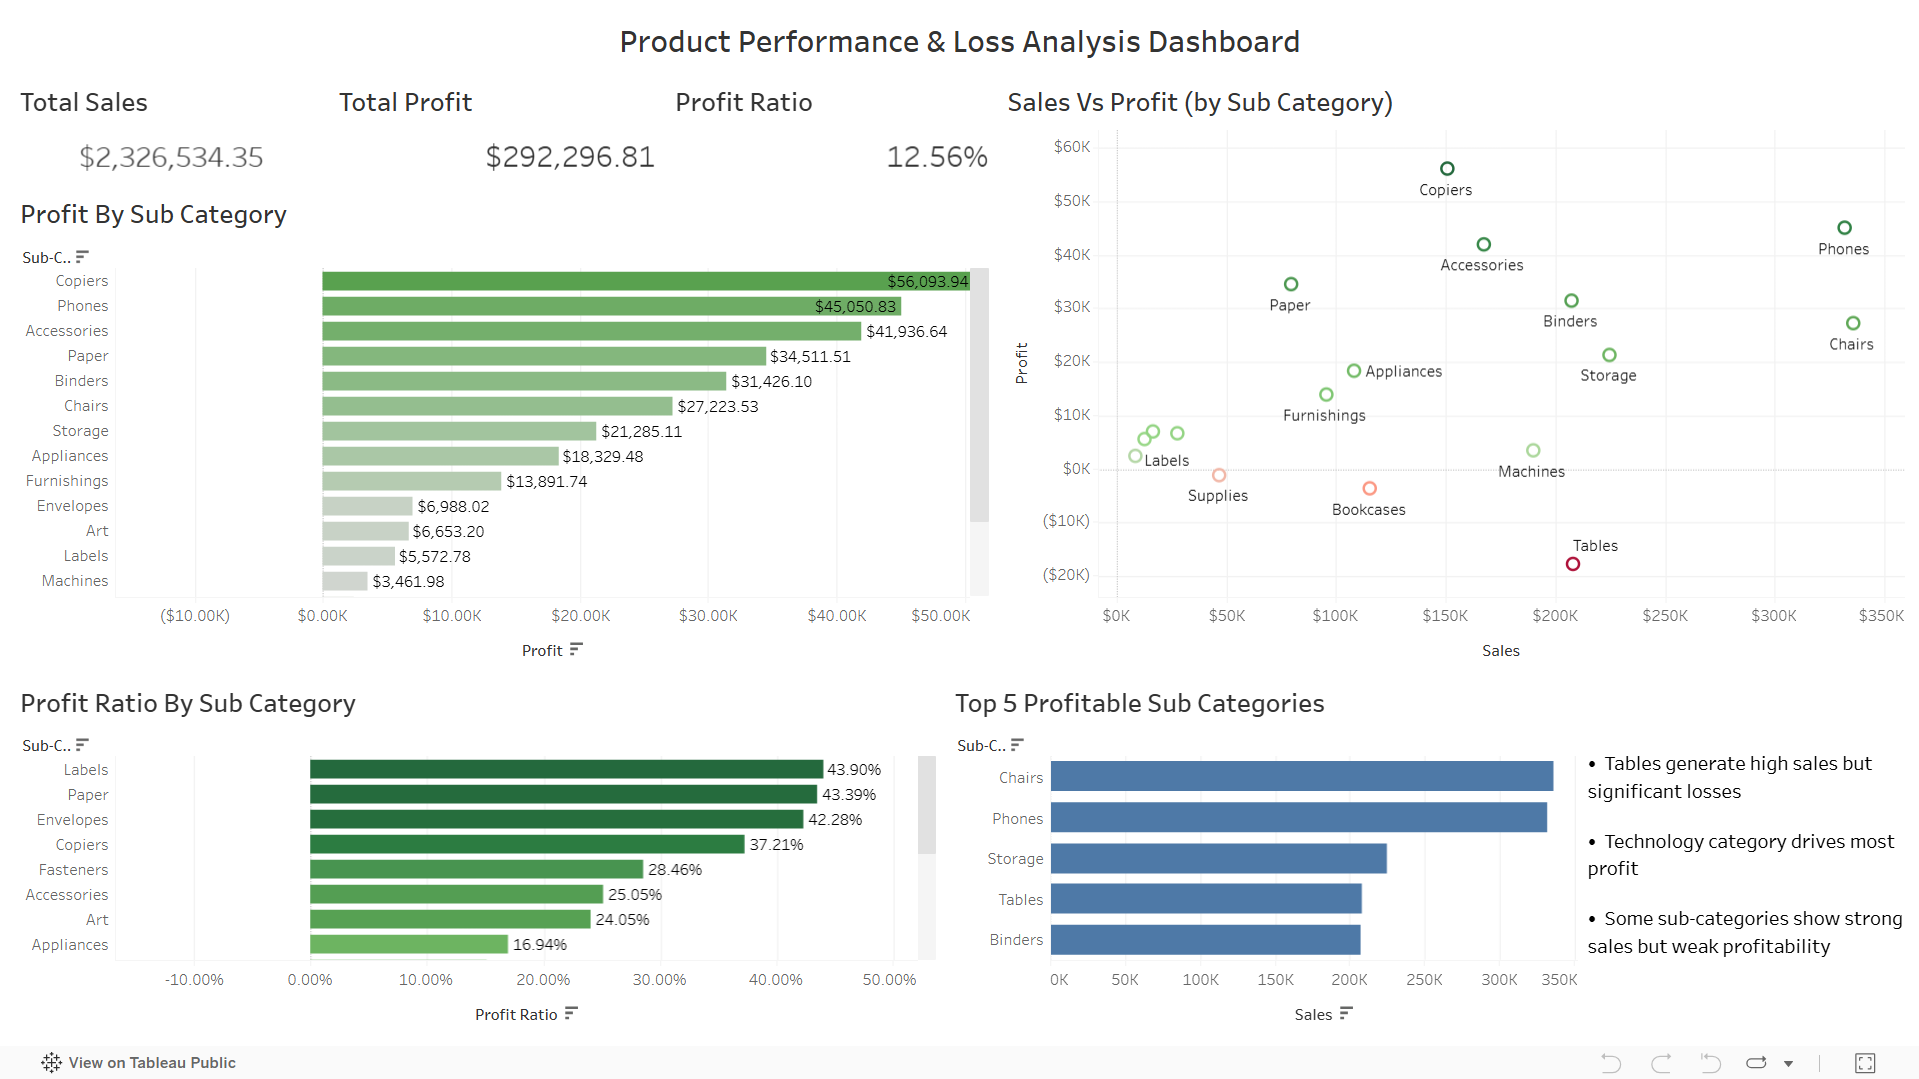

Layout of this report page (visuals, bound fields, positions):
{"tool":"tableau","page":{"name":"Dashboard 1","canvas":[1000,1000],"units":"permille","ordinal":0},"visuals":[{"type":"title","box":[4.7,10,990.6,61.2]},{"type":"worksheet","title":"Sheet 1","mark":"Automatic","box":[4.7,71.2,166.5,106.6]},{"type":"worksheet","title":"Sheet 2","mark":"Automatic","box":[171.2,71.2,174.8,106.6]},{"type":"worksheet","title":"Sheet 3","mark":"Automatic","box":[346,71.2,173.7,106.6]},{"type":"worksheet","title":"Sheet 6","mark":"Automatic","rows":["Profit"],"cols":["Sales"],"box":[519.6,71.2,475.7,573]},{"type":"worksheet","title":"Sheet 4","mark":"Automatic","rows":["Sub-Category"],"cols":["Profit"],"box":[4.7,177.8,514.9,466.4]},{"type":"worksheet","title":"Sheet 5","mark":"Automatic","rows":["Sub-Category"],"cols":["Calculation_1228482339753984"],"box":[4.7,644.2,487.7,345.9]},{"type":"worksheet","title":"Sheet 7","mark":"Automatic","rows":["Sub-Category"],"cols":["Sales"],"box":[492.3,644.2,332.5,345.9]},{"type":"text","box":[824.8,644.2,170.5,345.9]}]}

Visuals, with their boxes on the dashboard's canvas, which has no fixed pixel size, in thousandths of its width and height (x1, y1, x2, y2). These are canvas units, not pixel positions in the 1919x1079 screenshot, which may show the page scaled, cropped or inside an application window:
title: left=5, top=10, right=995, bottom=71
"Sheet 1" worksheet: left=5, top=71, right=171, bottom=178
"Sheet 2" worksheet: left=171, top=71, right=346, bottom=178
"Sheet 3" worksheet: left=346, top=71, right=520, bottom=178
"Sheet 6" worksheet: left=520, top=71, right=995, bottom=644
"Sheet 4" worksheet: left=5, top=178, right=520, bottom=644
"Sheet 5" worksheet: left=5, top=644, right=492, bottom=990
"Sheet 7" worksheet: left=492, top=644, right=825, bottom=990
text: left=825, top=644, right=995, bottom=990
